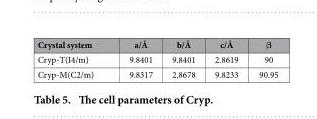table: (36, 37, 277, 79)
table column: (36, 37, 110, 79), (110, 37, 161, 79), (161, 37, 204, 79), (204, 37, 247, 79), (247, 37, 277, 79)
table column header: (36, 37, 277, 51)
table row: (36, 51, 277, 66), (36, 37, 277, 51), (36, 66, 277, 79)
